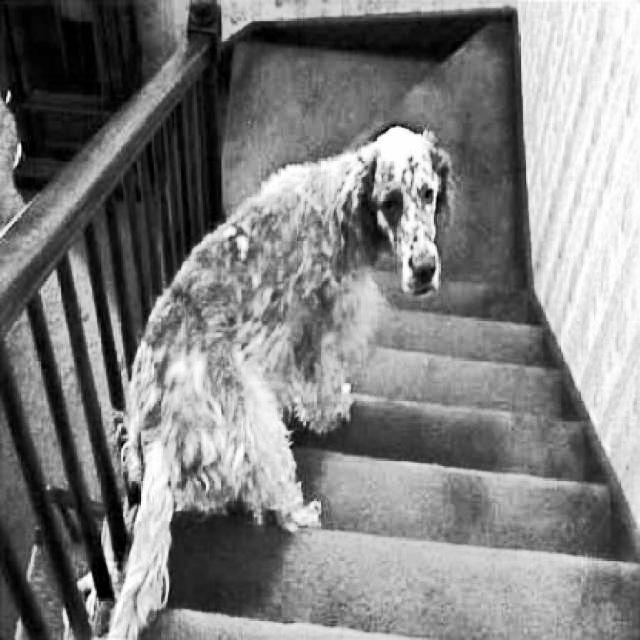Dog: (103, 111, 452, 640)
